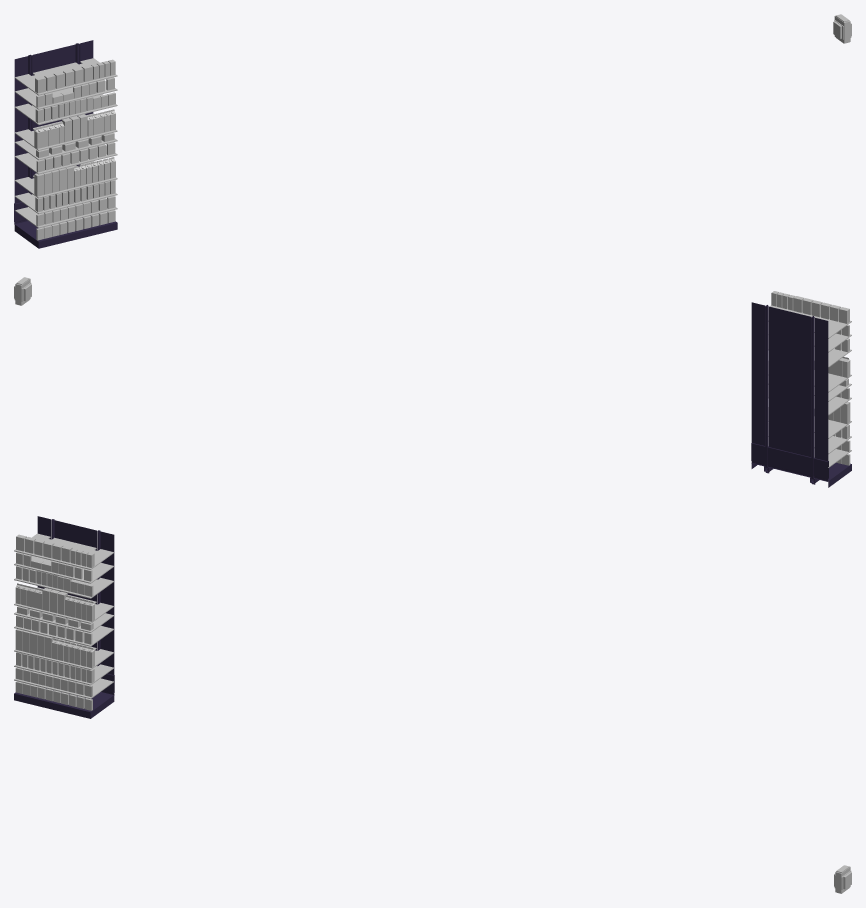
The model's file is cabinet_generator.obj.
The picture shows the model from 3 angles, top to bottom: view 1: azimuth 30°, elevation 25°; view 2: azimuth 150°, elevation 25°; view 3: azimuth 330°, elevation 25°; orthographic projection. The views are drawn at different scales.
Visible parts, largest first — view 1: cabinet_empty_ID206, shelf_9_ID180.008, shelf_8_ID180.007, shelf_4_ID180.003, shelf_6_ID180.005, shelf_3_ID180.002, shelf_7_ID180.006, shelf_1_ID180, shelf_2_ID180.001, shelf_5_ID180.004; view 2: cabinet_empty_ID206; view 3: cabinet_empty_ID206, shelf_9_ID180.008.
Boxes of the visible parts, x1=… form: cabinet_empty_ID206: x1=14, y1=40, x2=117, y2=248; shelf_9_ID180.008: x1=14, y1=58, x2=117, y2=95; shelf_8_ID180.007: x1=14, y1=80, x2=117, y2=109; shelf_4_ID180.003: x1=14, y1=146, x2=117, y2=174; shelf_6_ID180.005: x1=14, y1=113, x2=117, y2=150; shelf_3_ID180.002: x1=14, y1=161, x2=117, y2=198; shelf_7_ID180.006: x1=14, y1=94, x2=117, y2=124; shelf_1_ID180: x1=14, y1=199, x2=117, y2=228; shelf_2_ID180.001: x1=14, y1=192, x2=117, y2=214; shelf_5_ID180.004: x1=14, y1=135, x2=117, y2=160; cabinet_empty_ID206: x1=751, y1=302, x2=851, y2=487; cabinet_empty_ID206: x1=14, y1=516, x2=114, y2=718; shelf_9_ID180.008: x1=14, y1=533, x2=113, y2=569.
Bounding box in the file's own units: 10.57 × 2.21 × 0.6377.
